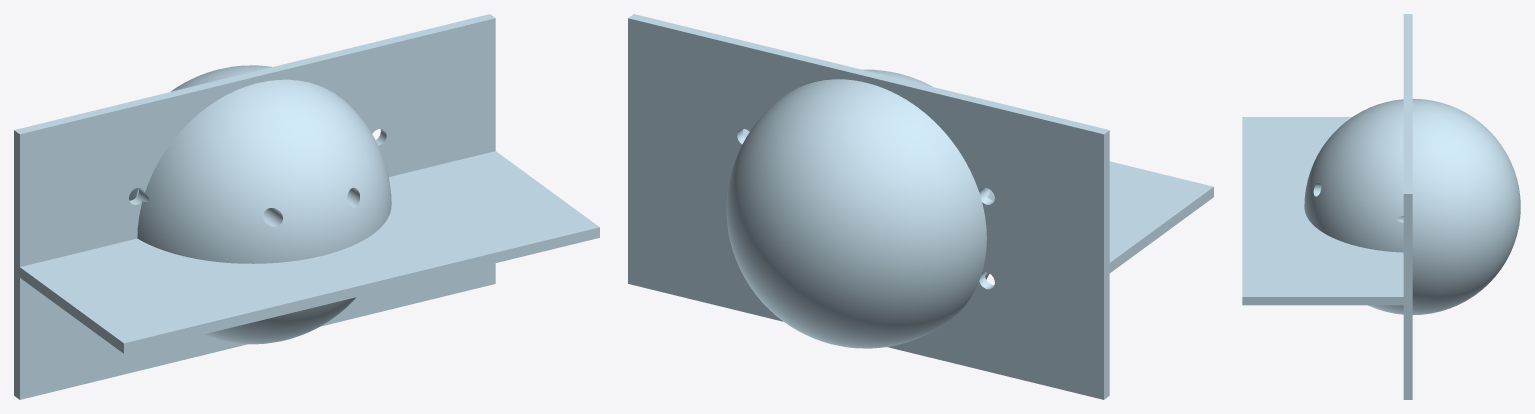
The picture shows the model from 3 angles, left to right: view 1: azimuth 30°, elevation 25°; view 2: azimuth 150°, elevation 25°; view 3: azimuth 270°, elevation 25°; orthographic projection. The views are drawn at different scales.
Visible parts, largest first — view 1: Part 1; view 2: Part 1; view 3: Part 1.
Boxes of the visible parts, x1=… form: Part 1: x1=14, y1=14, x2=599, y2=399; Part 1: x1=628, y1=14, x2=1213, y2=399; Part 1: x1=1242, y1=14, x2=1520, y2=399.
Bounding box in the file's own units: 0.15 × 0.08 × 0.0981.
